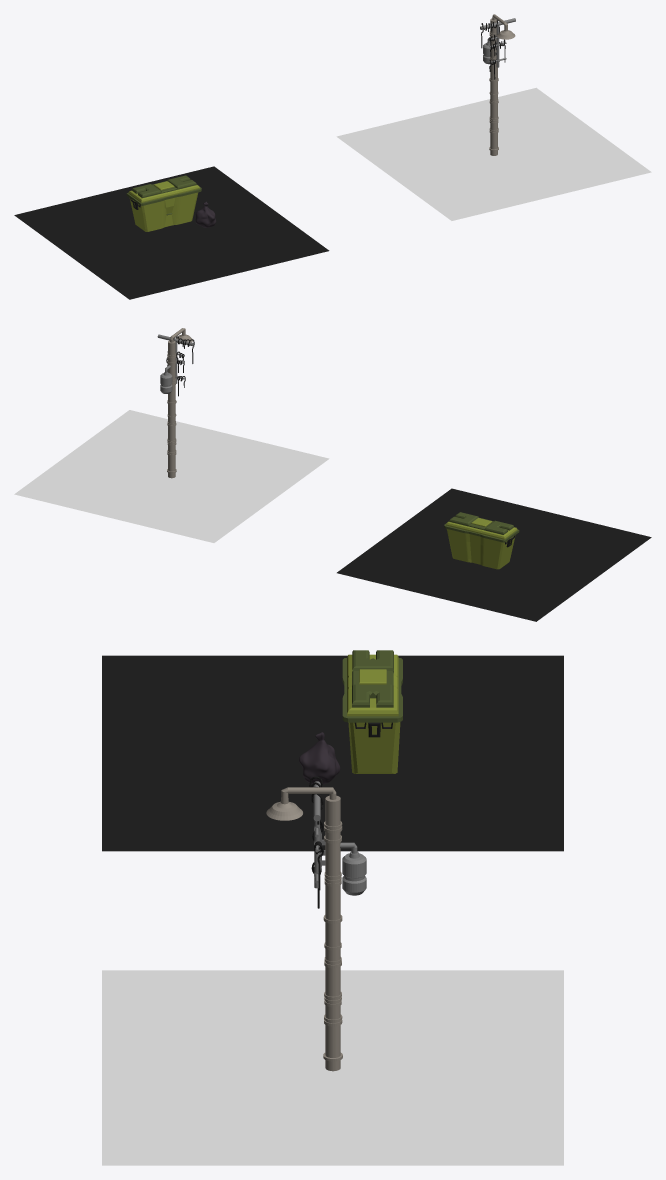
Rendered from Cop.fbx.
3 renders of one model, top to bottom at view 1: azimuth 30°, elevation 25°; view 2: azimuth 150°, elevation 25°; view 3: azimuth 270°, elevation 25°, orthographic. The views are drawn at different scales.
Parts seen in each view (by area): view 1: Plane, Plane.001, Cube, Cylinder, Cube.002, Cylinder.004, Cube.001; view 2: Plane, Plane.001, Cube, Cylinder, Cube.002, Cylinder.004, Cube.001; view 3: Plane, Plane.001, Cylinder, Cube.002, Cube, Cylinder.004, Cube.001, Icosphere.
Part boxes in pixels (x1,y1,x2,y2): Plane: (336, 87, 651, 220); Plane.001: (14, 166, 329, 299); Cube: (129, 192, 198, 231); Cylinder: (489, 14, 515, 155); Cube.002: (126, 175, 201, 215); Cylinder.004: (480, 18, 515, 67); Cube.001: (128, 181, 199, 202); Plane: (14, 410, 329, 542); Plane.001: (337, 488, 651, 621); Cube: (446, 529, 515, 569); Cylinder: (167, 328, 192, 478); Cube.002: (444, 512, 519, 542); Cylinder.004: (157, 334, 193, 393); Cube.001: (446, 518, 517, 539); Plane: (102, 970, 563, 1165); Plane.001: (102, 655, 563, 851); Cylinder: (266, 787, 342, 1071); Cube.002: (342, 650, 402, 722); Cube: (348, 722, 400, 773); Cylinder.004: (313, 781, 366, 895); Cube.001: (347, 654, 398, 716); Icosphere: (299, 732, 340, 784).
Bounding box in the file's own units: 2113 × 542 × 810.
